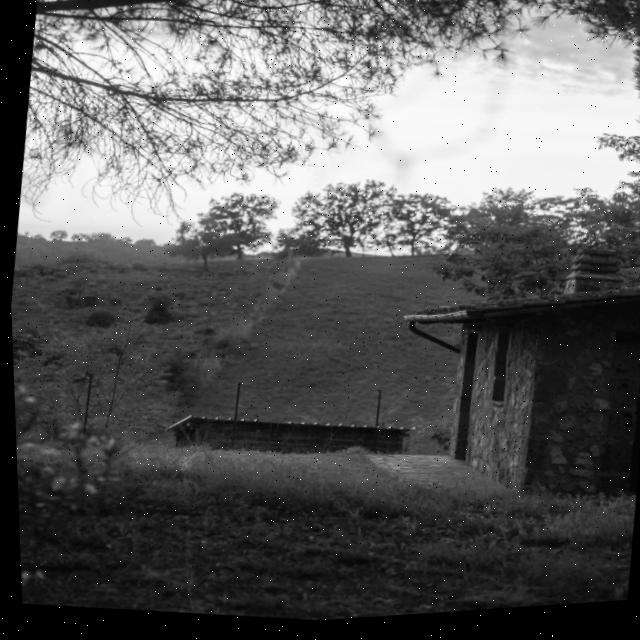building: (385, 252, 640, 509), (162, 395, 416, 472)
